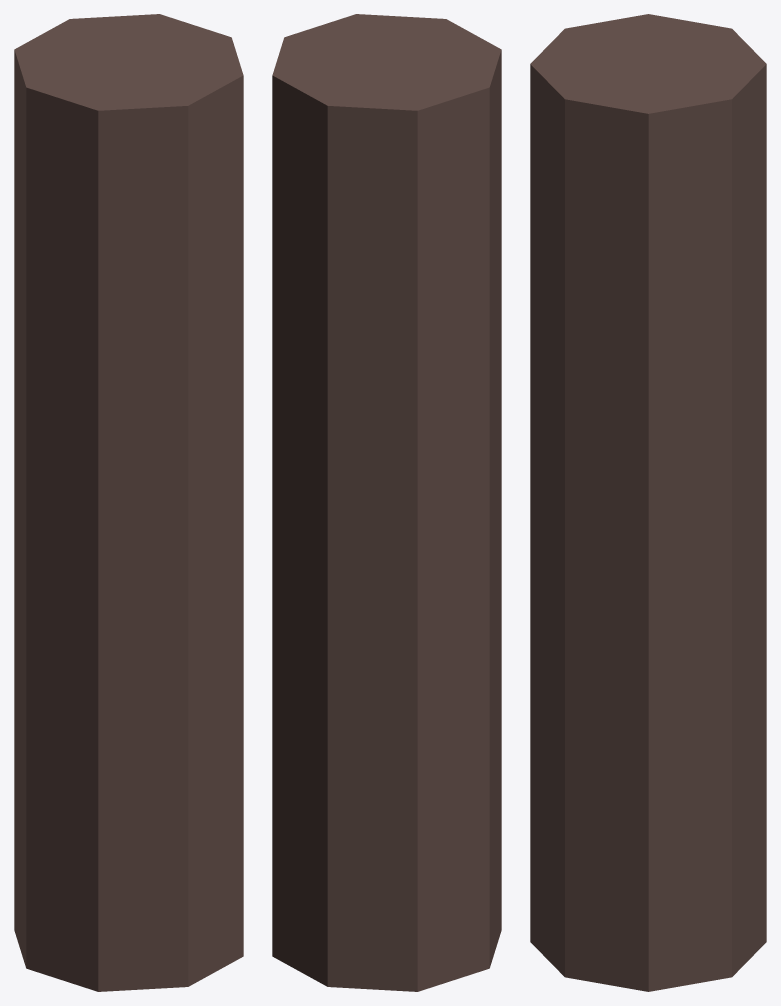
Rendered from SM_Env_Pillar_09.fbx.
3 renders of one model, left to right at view 1: azimuth 30°, elevation 25°; view 2: azimuth 150°, elevation 25°; view 3: azimuth 270°, elevation 25°, orthographic.
Visible parts, largest first — view 1: SM_Env_Pillar_09; view 2: SM_Env_Pillar_09; view 3: SM_Env_Pillar_09.
Part boxes in pixels (left/top/right/bottom): SM_Env_Pillar_09: left=14, top=14, right=243, bottom=991; SM_Env_Pillar_09: left=272, top=14, right=501, bottom=991; SM_Env_Pillar_09: left=530, top=14, right=766, bottom=991.
Size of the model in its own units: 50.73 by 208 by 50.73.
1 material, 1 textured.
